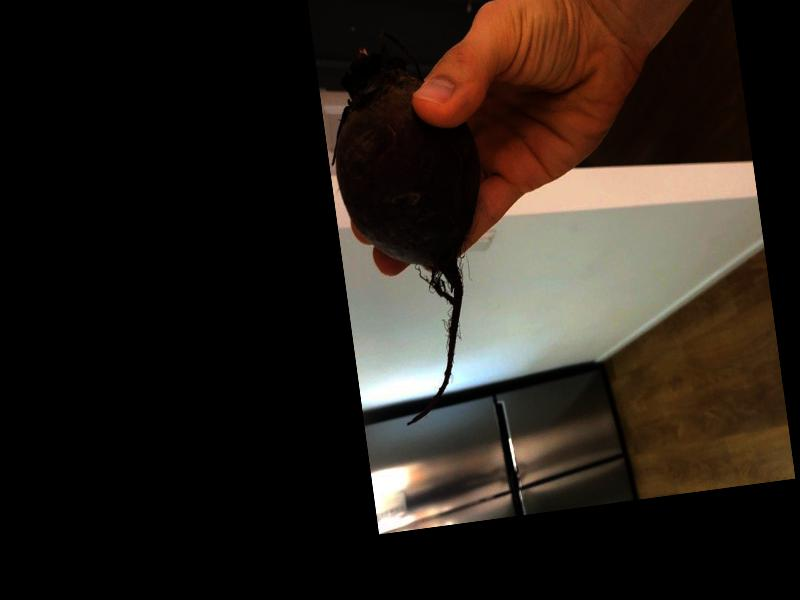Beet: (315, 21, 509, 429)
